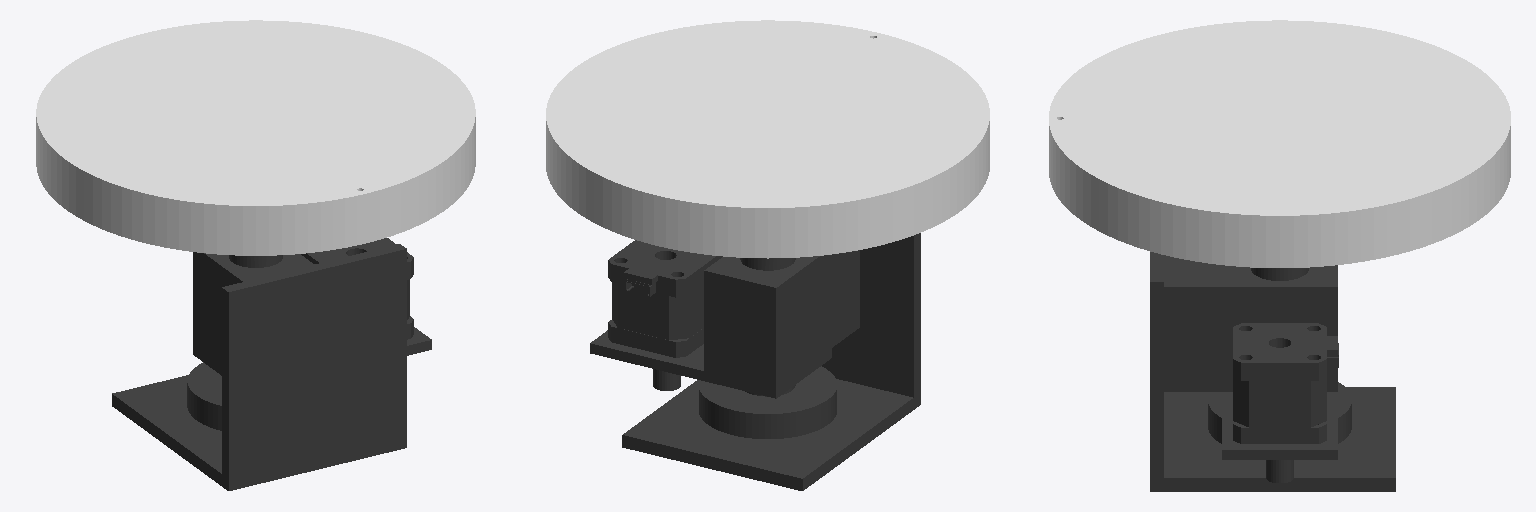
robot.urdf — actuated_platform:
<?xml version="1.0" ?>
<robot name="actuated_platform">
  
  <material name="white">
	<color rgba="0.95 0.95 0.95 1"/>
  </material>
  
  <material name="silver">
	<color rgba="0.3 0.3 0.3 1"/>
  </material>

  <link name="world" />

  <joint name="world_joint" type="fixed">
    <origin rpy="0 0 0" xyz="0 0 0"/>
    <parent link="world"/>
    <child link="actuated_platform/base"/>
  </joint>
  
  <link name="actuated_platform/base">
	<visual>
		<origin xyz="0 0 0"/>
		<geometry>
			<mesh filename="../Data/sim/meshes/PlatformBase.stl" scale="0.001 0.001 0.001"/>
		</geometry>
		<material name="silver"/>
	</visual>
	
	<collision>
		<origin xyz="0 0 0"/>
		<geometry>
			<mesh filename="../Data/sim/meshes/PlatformBase.stl" scale="0.001 0.001 0.001"/>
		</geometry>
	</collision>
	
	<inertial>
      <origin rpy="0 0 0" xyz="0 0 0"/>
      <mass value="20"/>
      <inertia ixx="0.0033530000" ixy="-0.0001246000" ixz="0.0000110600" iyy="0.0013570000" iyz="0.0002103000" izz="0.0041110000"/>
    </inertial>
  </link>
  
  <joint name="base_mount_joint" type="revolute">
    <parent link="actuated_platform/base"/>
    <child link="actuated_platform/plate"/>
    <axis xyz="0 0 1"/>
    <limit effort="1" lower="-9999999999" upper="9999999999" velocity="5"/>
    <origin xyz="0 0 0"/>
  </joint>
  
  <link name="actuated_platform/plate">
	<visual>
		<origin xyz="0 0 0"/>
		<geometry>
			<mesh filename="../Data/sim/meshes/PlatformPlate.stl" scale="0.001 0.001 0.001"/>
		</geometry>
		<material name="white"/>
	</visual>
	
	<collision>
		<origin xyz="0 0 0"/>
		<geometry>
			<mesh filename="../Data/sim/meshes/PlatformPlate.stl" scale="0.001 0.001 0.001"/>
		</geometry>
	</collision>
	
	<inertial>
      <origin rpy="0 0 0" xyz="0 0 0"/>
      <mass value="1"/>
      <inertia ixx="0.0033530000" ixy="-0.0001246000" ixz="0.0000110600" iyy="0.0013570000" iyz="0.0002103000" izz="0.0041110000"/>
    </inertial>
  </link>

</robot>

--- Facts derived from the render (not from the file) ---
Views: 3 orthographic renders of the robot side by side, from view 1: azimuth 30°, elevation 25°; view 2: azimuth 150°, elevation 25°; view 3: azimuth 270°, elevation 25°.
Robot: actuated_platform — 3 links, 2 joints (1 revolute, 1 fixed); root link world; default pose: all joints at 0.
Visible links, largest first — view 1: actuated_platform/plate, actuated_platform/base; view 2: actuated_platform/plate, actuated_platform/base; view 3: actuated_platform/plate, actuated_platform/base.
Link boxes in pixels (x1,y1,x2,y2): actuated_platform/plate: (36,20,475,255); actuated_platform/base: (112,238,431,490); actuated_platform/plate: (546,20,989,258); actuated_platform/base: (590,233,920,490); actuated_platform/plate: (1049,20,1510,267); actuated_platform/base: (1150,252,1395,491).
Size in the robot's own frame: 0.2032 by 0.2032 by 0.1587 metres.
2 mesh visuals loaded from 2 distinct referenced files (2 binary STL).